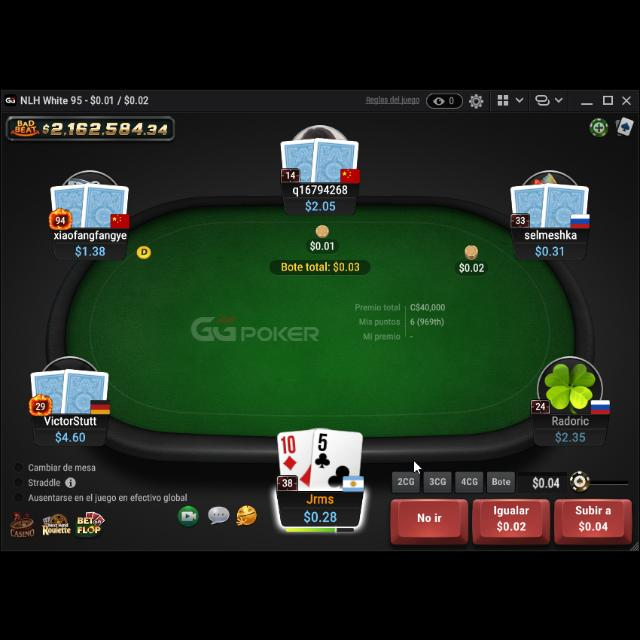5c: (314, 428, 332, 468)
Td: (281, 431, 299, 469)
bet_text: (309, 238, 336, 252), (309, 238, 335, 252), (458, 259, 486, 271)
card_back: (538, 179, 592, 229), (61, 362, 111, 412), (310, 132, 360, 182), (80, 177, 130, 227), (509, 179, 555, 227), (48, 178, 92, 228), (278, 134, 322, 180), (30, 366, 70, 412)
dealer: (136, 242, 152, 258)
hero_active: (389, 493, 637, 543)
pot_text: (278, 258, 362, 272)
stack_text: (302, 504, 338, 522), (554, 426, 588, 440), (304, 196, 336, 210), (74, 241, 106, 255), (534, 242, 564, 256), (54, 426, 86, 439)
